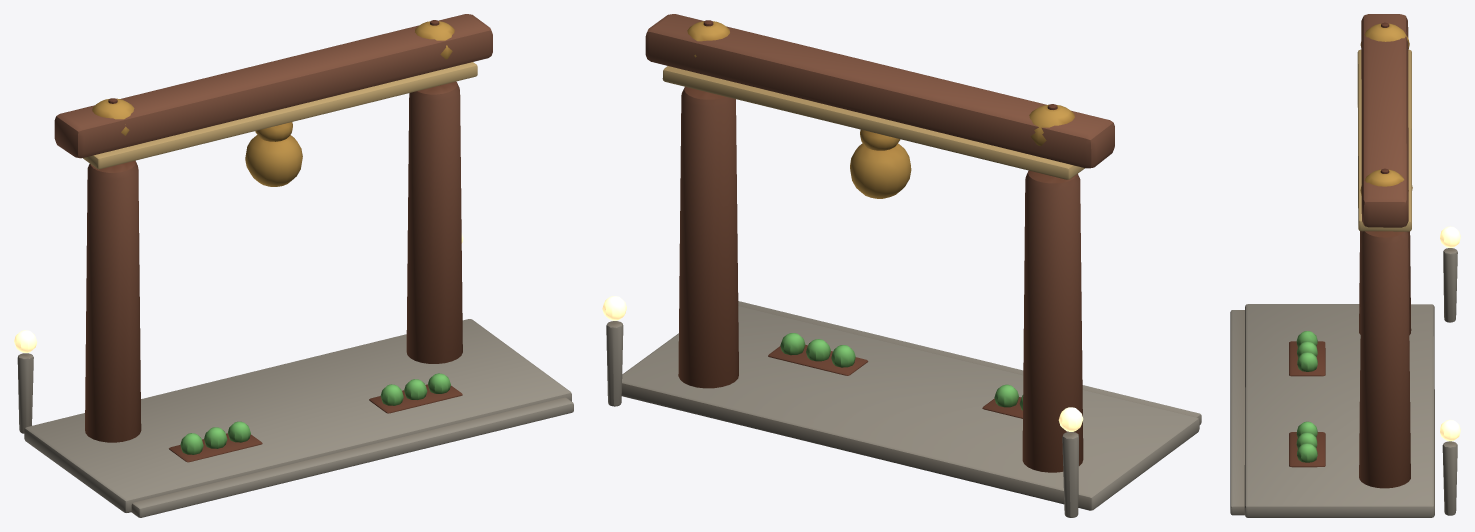
3 renders of one model, left to right at view 1: azimuth 30°, elevation 25°; view 2: azimuth 150°, elevation 25°; view 3: azimuth 270°, elevation 25°, orthographic. The views are drawn at different scales.
Visible parts, largest first — view 1: gate_8636c98c; view 2: gate_8636c98c; view 3: gate_8636c98c.
Part boxes in pixels (left/top/right/bottom): gate_8636c98c: left=14, top=14, right=573, bottom=517; gate_8636c98c: left=602, top=14, right=1201, bottom=517; gate_8636c98c: left=1230, top=14, right=1460, bottom=517.
Size of the model in its own units: 5.32 by 3.92 by 2.54.
